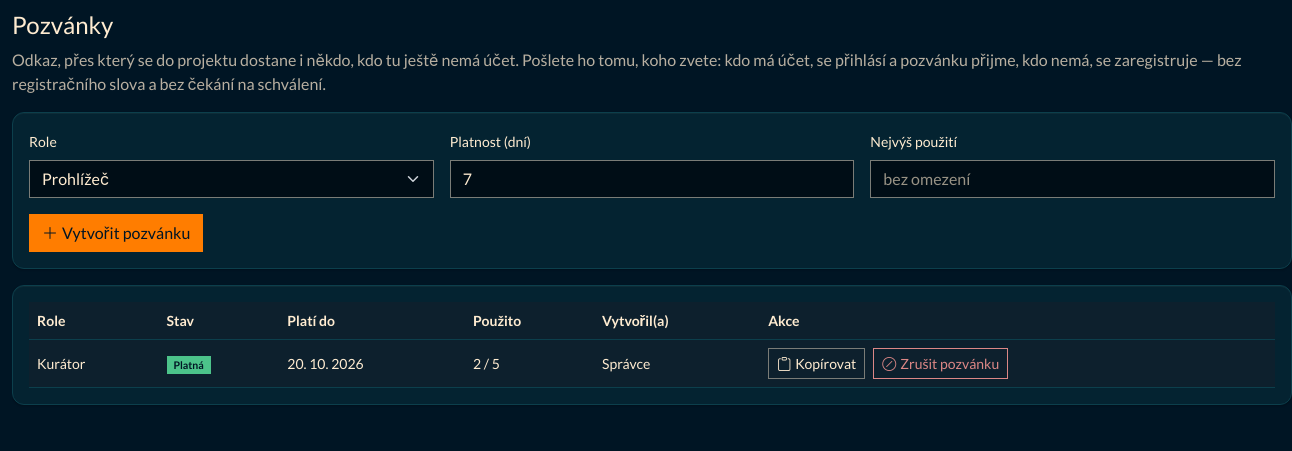
Scenario: InvitesSection › notes that an admin invite registers an editor at most
Select "Správce" in the dropdown labelled "Role" at (231, 179), box [29,160,434,198]
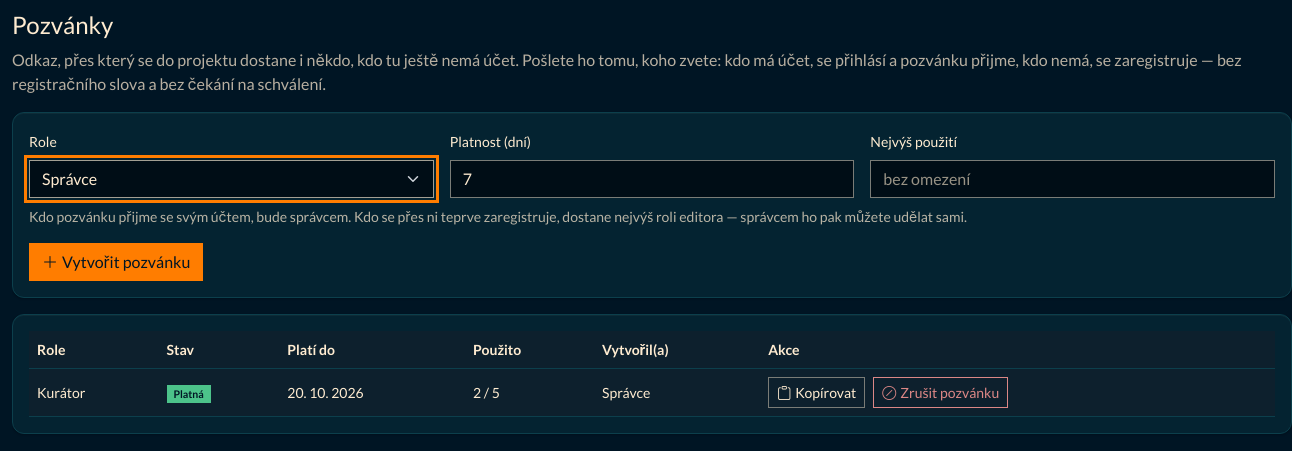
Check: the text with test id "invite-admin-note" shows "nejvýš roli editora", box [29,208,967,225]
